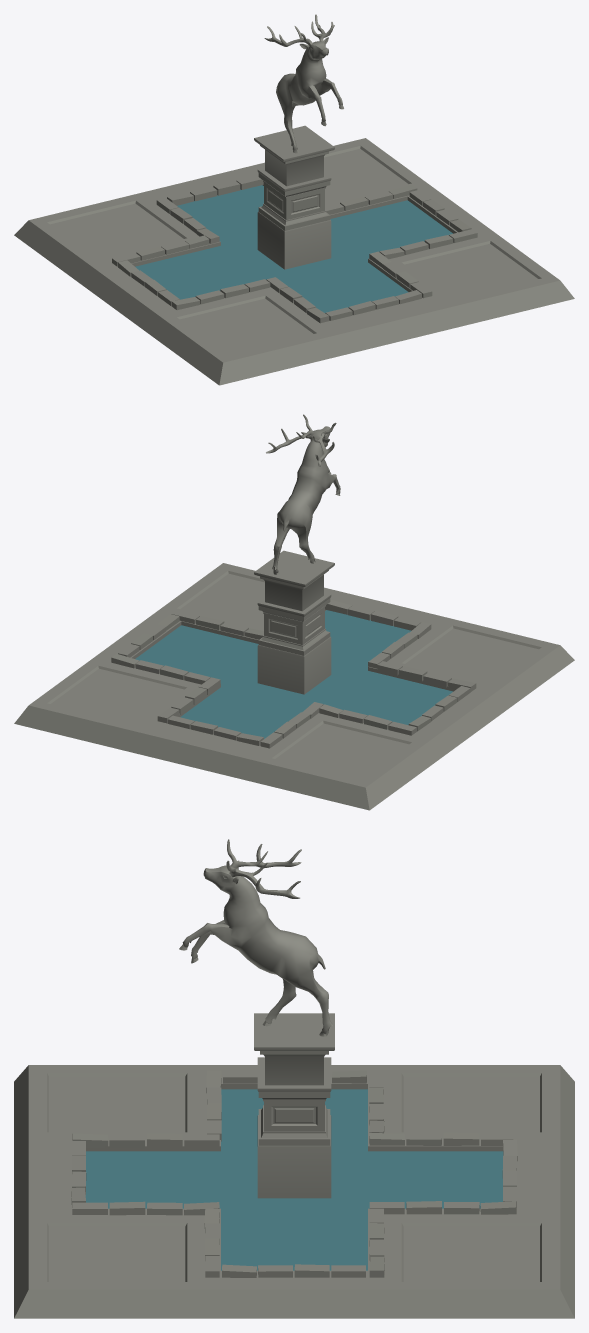
Rendered from Town Center-cuQuFJEIfH.glb.
3 renders of one model, top to bottom at view 1: azimuth 30°, elevation 25°; view 2: azimuth 150°, elevation 25°; view 3: azimuth 270°, elevation 25°, orthographic. The views are drawn at different scales.
Visible parts, largest first — view 1: TownCenter_SecondAge_Level1; view 2: TownCenter_SecondAge_Level1; view 3: TownCenter_SecondAge_Level1.
Boxes of the visible parts, <box> form: TownCenter_SecondAge_Level1: <box>14,14,574,385</box>; TownCenter_SecondAge_Level1: <box>14,414,574,810</box>; TownCenter_SecondAge_Level1: <box>14,839,574,1318</box>.
Bounding box in the file's own units: 1.86 × 1.28 × 1.86.
